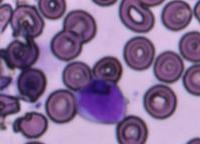L: (74, 76, 128, 124)
